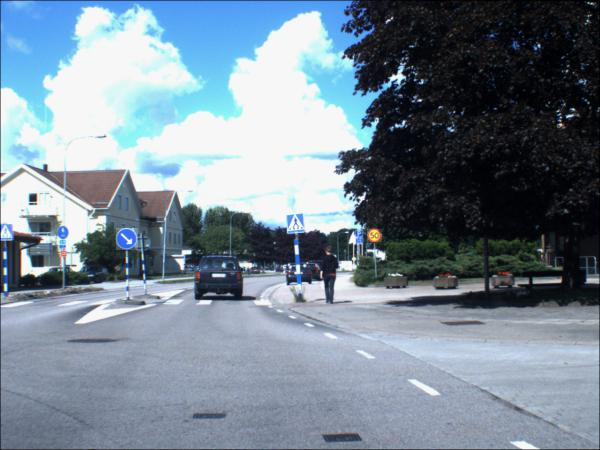50_SIGN: (368, 230, 384, 244)
PASS_RIGHT_SIDE: (117, 229, 140, 252)
PEDESTRIAN_CROSSING: (288, 214, 306, 235), (2, 226, 14, 243)
